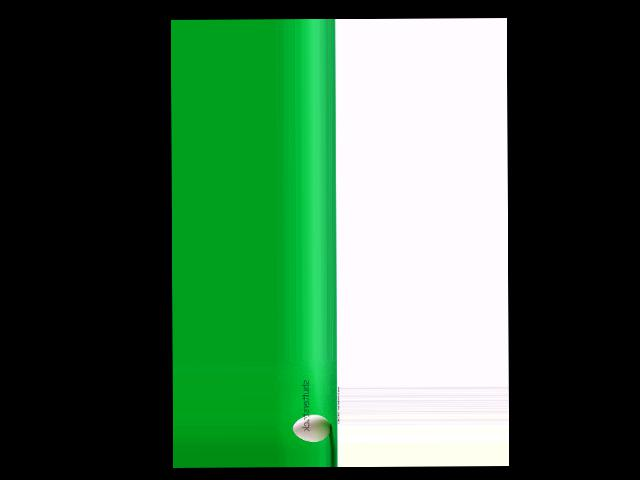egg: (293, 414, 332, 442)
